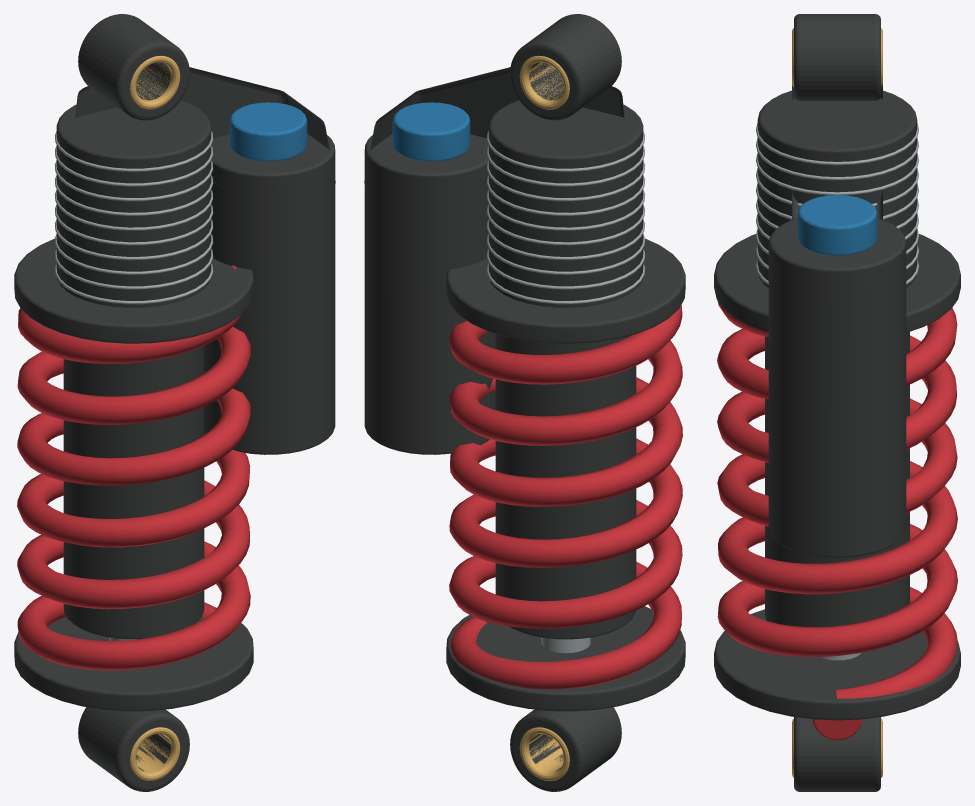
The model's file is rockshox-vivid-coil-ultimate-d1--a319e221.glb.
3 views of the same model, side by side, from view 1: azimuth 30°, elevation 25°; view 2: azimuth 150°, elevation 25°; view 3: azimuth 270°, elevation 25° (orthographic). The views are drawn at different scales.
Parts seen in each view (by area): view 1: rockshox-vivid-coil-ultimate-d1--a319e221__link, rockshox-vivid-coil-ultimate-d1--a319e221__rebound, rockshox-vivid-coil-ultimate-d1--a319e221__bolts, rockshox-vivid-coil-ultimate-d1--a319e221__adjuster, rockshox-vivid-coil-ultimate-d1--a319e221__stanchions; view 2: rockshox-vivid-coil-ultimate-d1--a319e221__link, rockshox-vivid-coil-ultimate-d1--a319e221__rebound, rockshox-vivid-coil-ultimate-d1--a319e221__bolts, rockshox-vivid-coil-ultimate-d1--a319e221__adjuster, rockshox-vivid-coil-ultimate-d1--a319e221__stanchions; view 3: rockshox-vivid-coil-ultimate-d1--a319e221__link, rockshox-vivid-coil-ultimate-d1--a319e221__rebound, rockshox-vivid-coil-ultimate-d1--a319e221__adjuster, rockshox-vivid-coil-ultimate-d1--a319e221__bolts, rockshox-vivid-coil-ultimate-d1--a319e221__stanchions.
Boxes of the visible parts, left/top/right/bottom form: rockshox-vivid-coil-ultimate-d1--a319e221__link: left=14, top=14, right=335, bottom=791; rockshox-vivid-coil-ultimate-d1--a319e221__rebound: left=17, top=265, right=250, bottom=670; rockshox-vivid-coil-ultimate-d1--a319e221__bolts: left=54, top=131, right=213, bottom=640; rockshox-vivid-coil-ultimate-d1--a319e221__adjuster: left=229, top=102, right=307, bottom=161; rockshox-vivid-coil-ultimate-d1--a319e221__stanchions: left=130, top=55, right=180, bottom=780; rockshox-vivid-coil-ultimate-d1--a319e221__link: left=364, top=14, right=685, bottom=791; rockshox-vivid-coil-ultimate-d1--a319e221__rebound: left=449, top=305, right=682, bottom=689; rockshox-vivid-coil-ultimate-d1--a319e221__bolts: left=486, top=131, right=645, bottom=653; rockshox-vivid-coil-ultimate-d1--a319e221__adjuster: left=392, top=102, right=470, bottom=161; rockshox-vivid-coil-ultimate-d1--a319e221__stanchions: left=519, top=55, right=569, bottom=780; rockshox-vivid-coil-ultimate-d1--a319e221__link: left=714, top=14, right=960, bottom=791; rockshox-vivid-coil-ultimate-d1--a319e221__rebound: left=717, top=301, right=957, bottom=740; rockshox-vivid-coil-ultimate-d1--a319e221__adjuster: left=797, top=195, right=877, bottom=255; rockshox-vivid-coil-ultimate-d1--a319e221__bolts: left=756, top=123, right=918, bottom=660; rockshox-vivid-coil-ultimate-d1--a319e221__stanchions: left=792, top=28, right=882, bottom=777.
Bounding box in the file's own units: 0.097 × 0.234 × 0.068.
